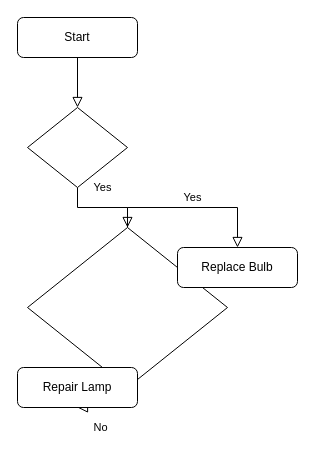
Image size: 315x451. Some labels were removed from this diagram. Here are the shapes that lost their labels. From the top down, the box of each, then its label:
(26, 106, 128, 188): randomly selecting word from list
(26, 226, 228, 388): making sure if guess word is in randomly selected word
